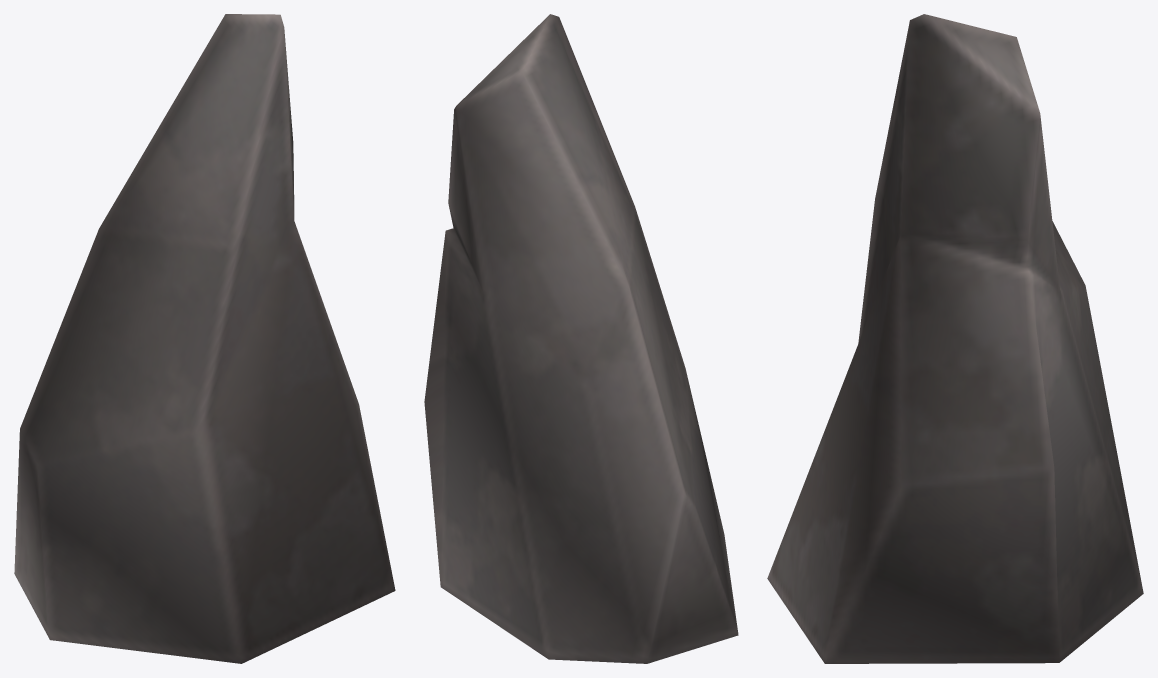
File: obj_stone04.gltf
3 renders of one model, left to right at view 1: azimuth 30°, elevation 25°; view 2: azimuth 150°, elevation 25°; view 3: azimuth 270°, elevation 25°, orthographic. The views are drawn at different scales.
Visible parts, largest first — view 1: obj_stone04; view 2: obj_stone04; view 3: obj_stone04.
Boxes of the visible parts, x1,y1,x2,y2 form: obj_stone04: (14,14,395,663); obj_stone04: (424,14,738,663); obj_stone04: (767,14,1143,663).
Size of what is drawn, in the model's own units: 0.9094 by 1.78 by 0.9473.
1 material, 1 textured.
